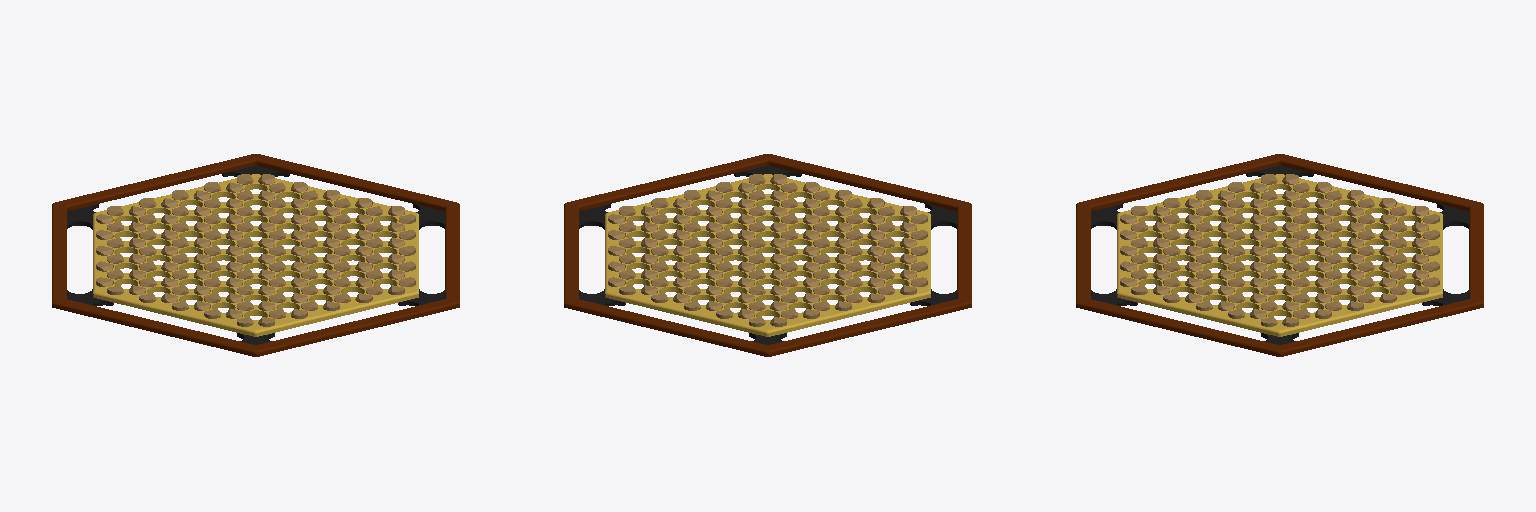
Rendered from board.obj.
3 renders of one model, left to right at view 1: azimuth 30°, elevation 25°; view 2: azimuth 150°, elevation 25°; view 3: azimuth 270°, elevation 25°, orthographic.
Parts seen in each view (by area): view 1: Rails_Mesh.013, Board_Plane.001, Ring_Plane; view 2: Rails_Mesh.013, Board_Plane.001, Ring_Plane; view 3: Rails_Mesh.013, Board_Plane.001, Ring_Plane.
Part boxes in pixels (left/top/right/bottom): Rails_Mesh.013: left=96, top=174, right=415, bottom=326; Board_Plane.001: left=93, top=174, right=418, bottom=336; Ring_Plane: left=52, top=154, right=459, bottom=356; Rails_Mesh.013: left=608, top=174, right=927, bottom=326; Board_Plane.001: left=605, top=174, right=930, bottom=336; Ring_Plane: left=564, top=154, right=971, bottom=356; Rails_Mesh.013: left=1120, top=174, right=1439, bottom=326; Board_Plane.001: left=1117, top=174, right=1442, bottom=336; Ring_Plane: left=1076, top=154, right=1483, bottom=356.
Bounding box in the file's own units: 31.3 × 1.06 × 27.16.